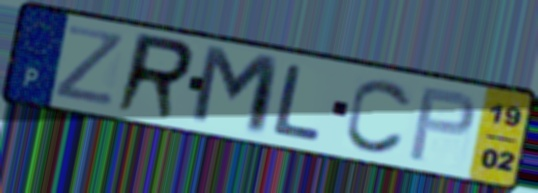C: (342, 76, 416, 157)
L: (269, 61, 324, 144)
M: (186, 42, 284, 141)
P: (404, 85, 478, 165)
R: (110, 29, 199, 124)
Z: (50, 22, 128, 109)
